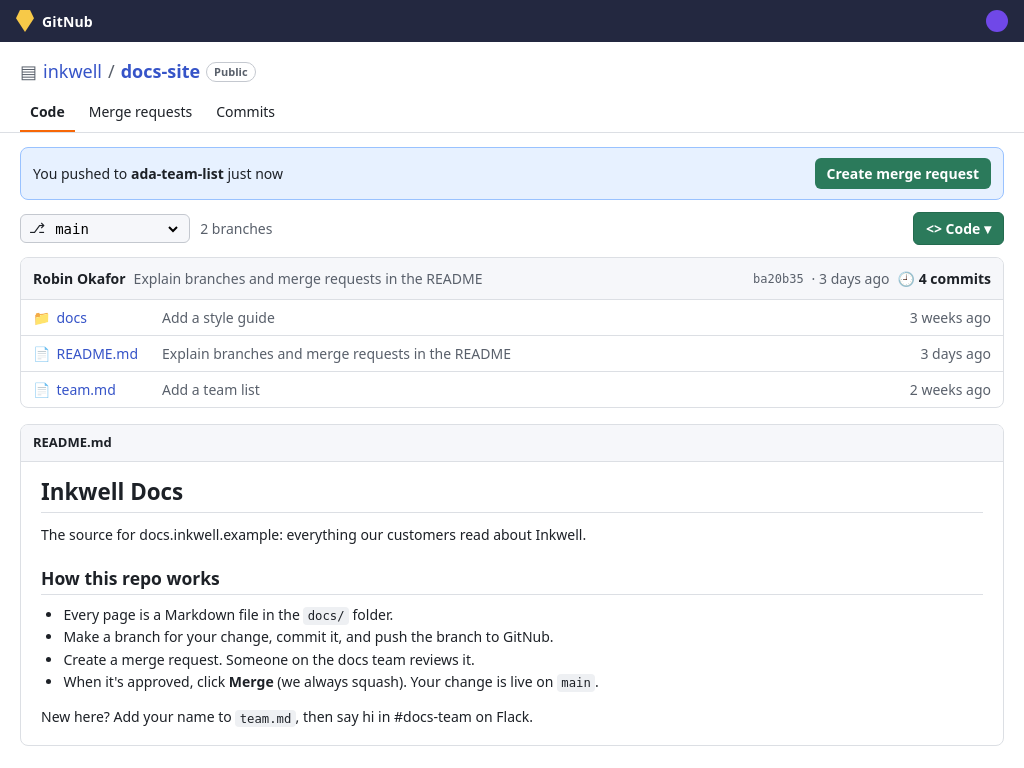
the merge request page › lists the commits and the files changed
Click the link "Create merge request": click(903, 174) [814, 158, 991, 189]
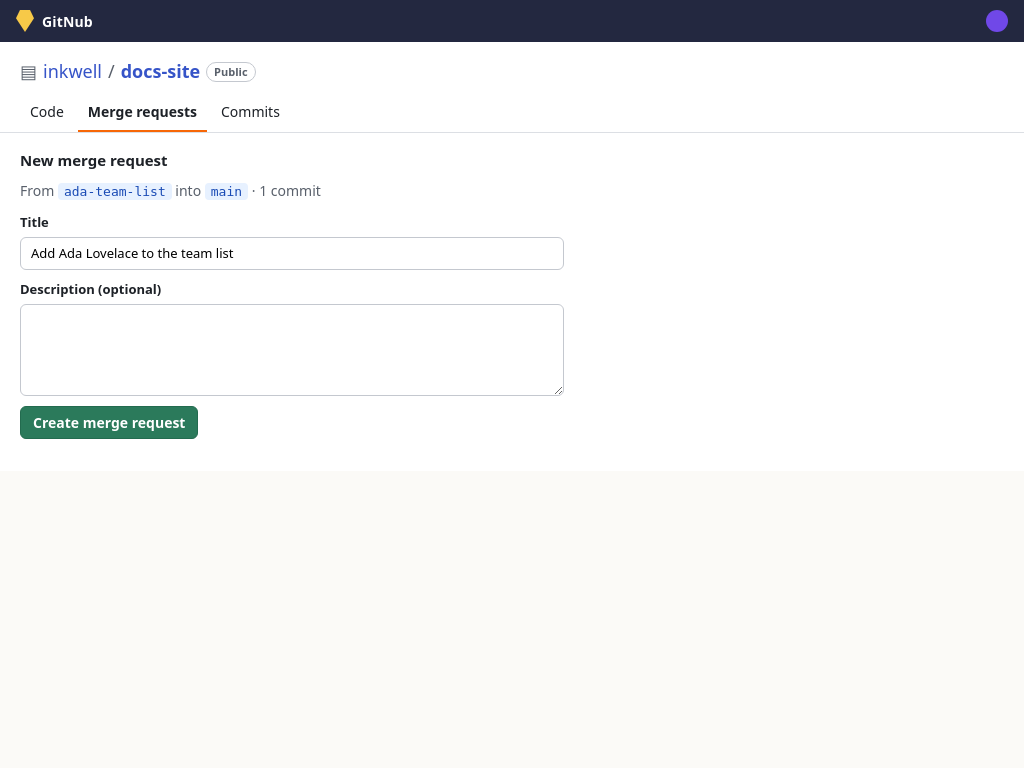
Click the button "Create merge request": click(109, 422) [20, 406, 198, 438]
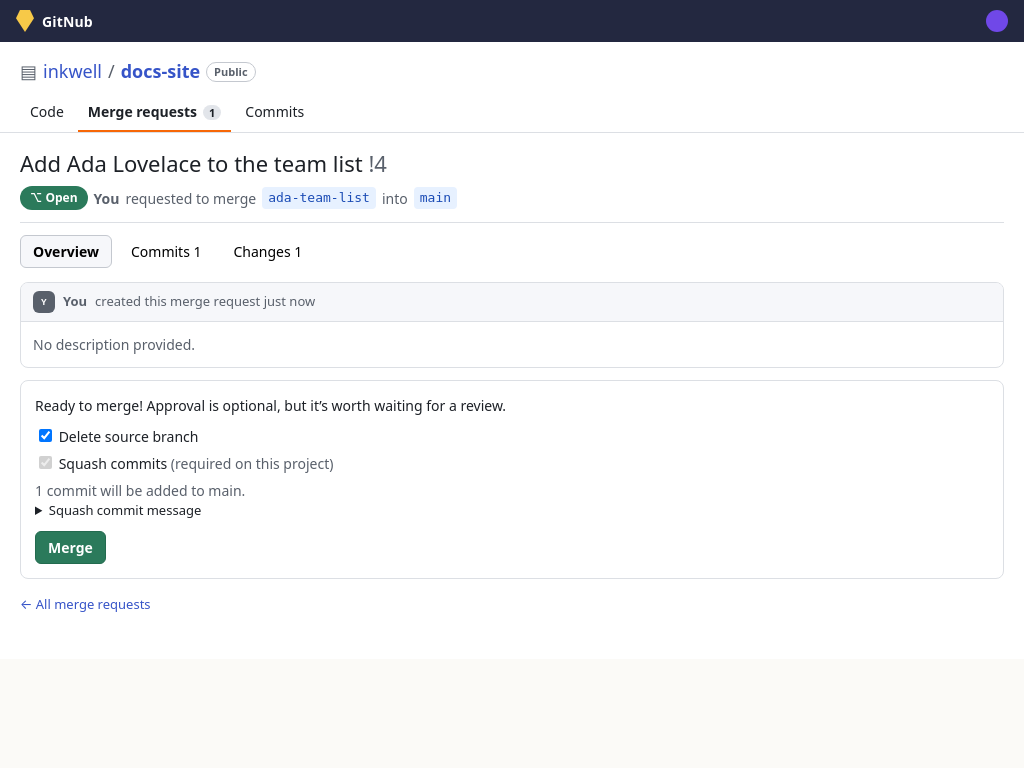
Click the tab "Commits 1": click(166, 252) [118, 235, 214, 268]
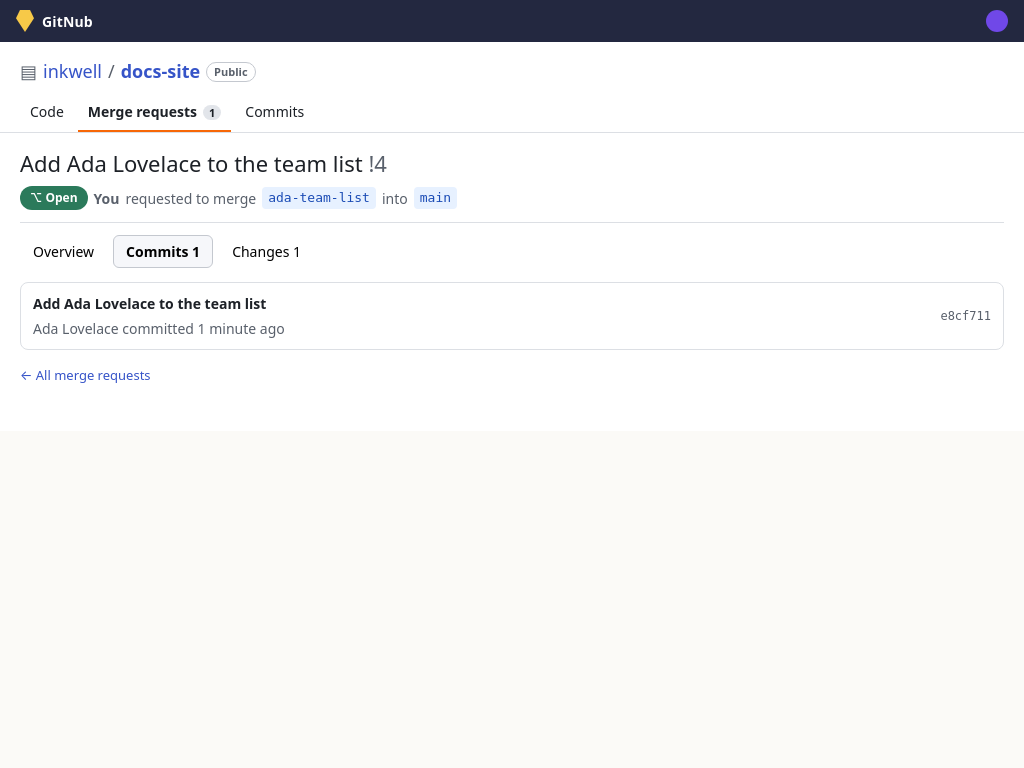
Result: the text "Add Ada Lovelace to the team list" is shown at [33, 294, 266, 313]
Result: the list shows "Ada Lovelace committed" at [20, 282, 1004, 350]
Click the tab "Changes 1": click(267, 252) [219, 235, 314, 268]
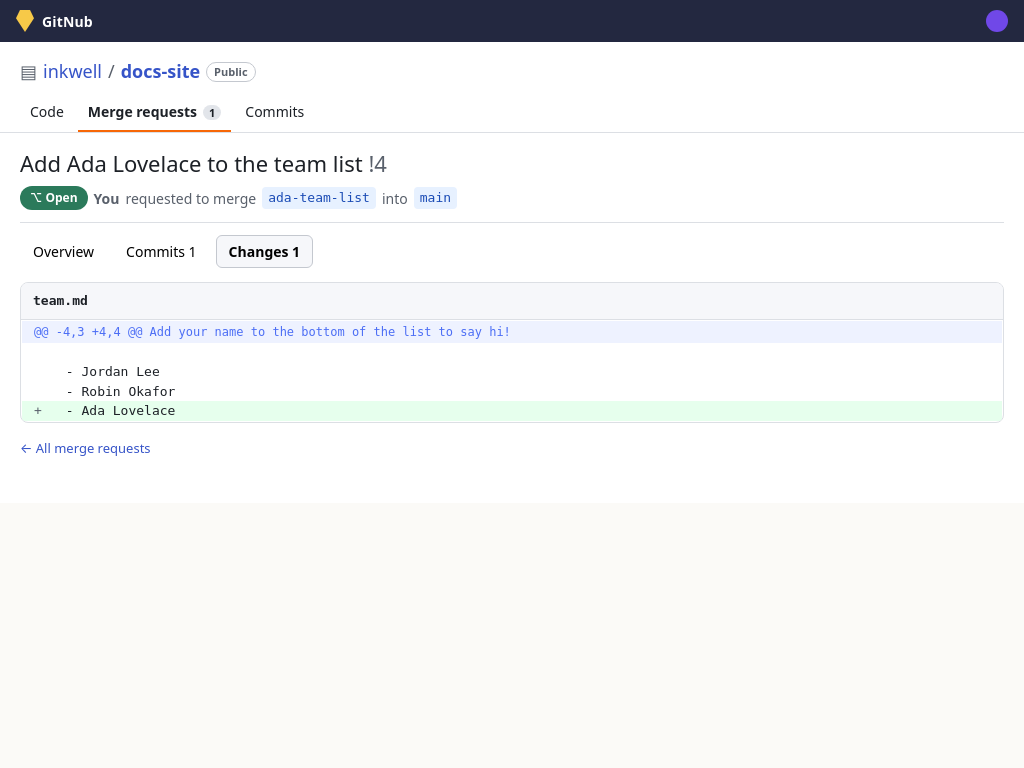
Result: the table named "Changes to team.md" shows "- Ada Lovelace" at [66, 403, 175, 418]
